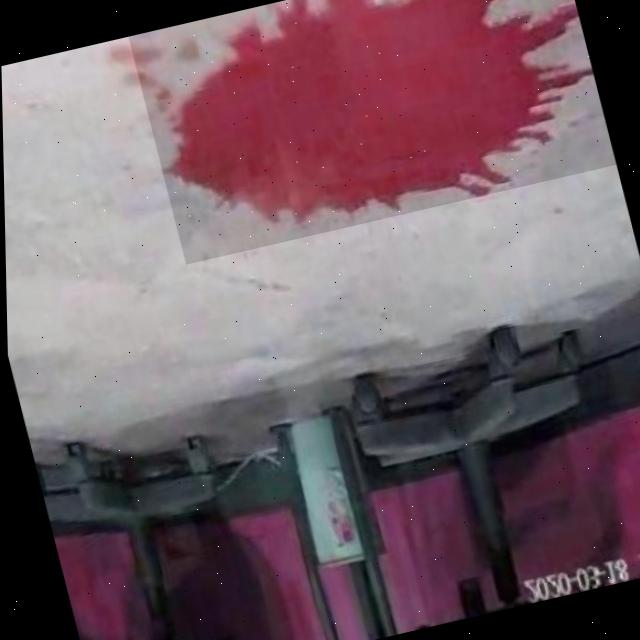spillage: (161, 0, 584, 222)
